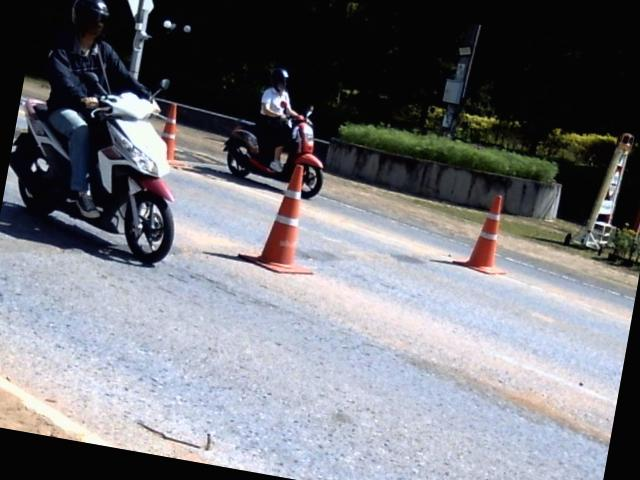helmet: (59, 0, 117, 49), (266, 64, 296, 94)
motor: (9, 71, 173, 262), (222, 105, 323, 197)
person: (44, 0, 149, 217), (256, 67, 297, 171)
